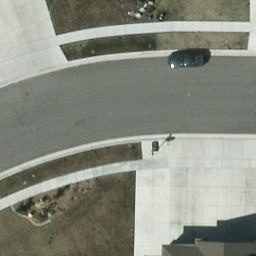car: (165, 49, 209, 69)
